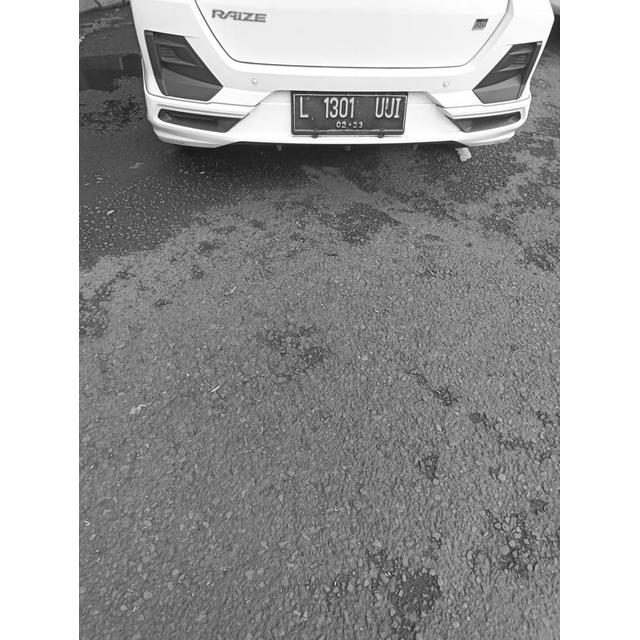license: (297, 96, 403, 129)
